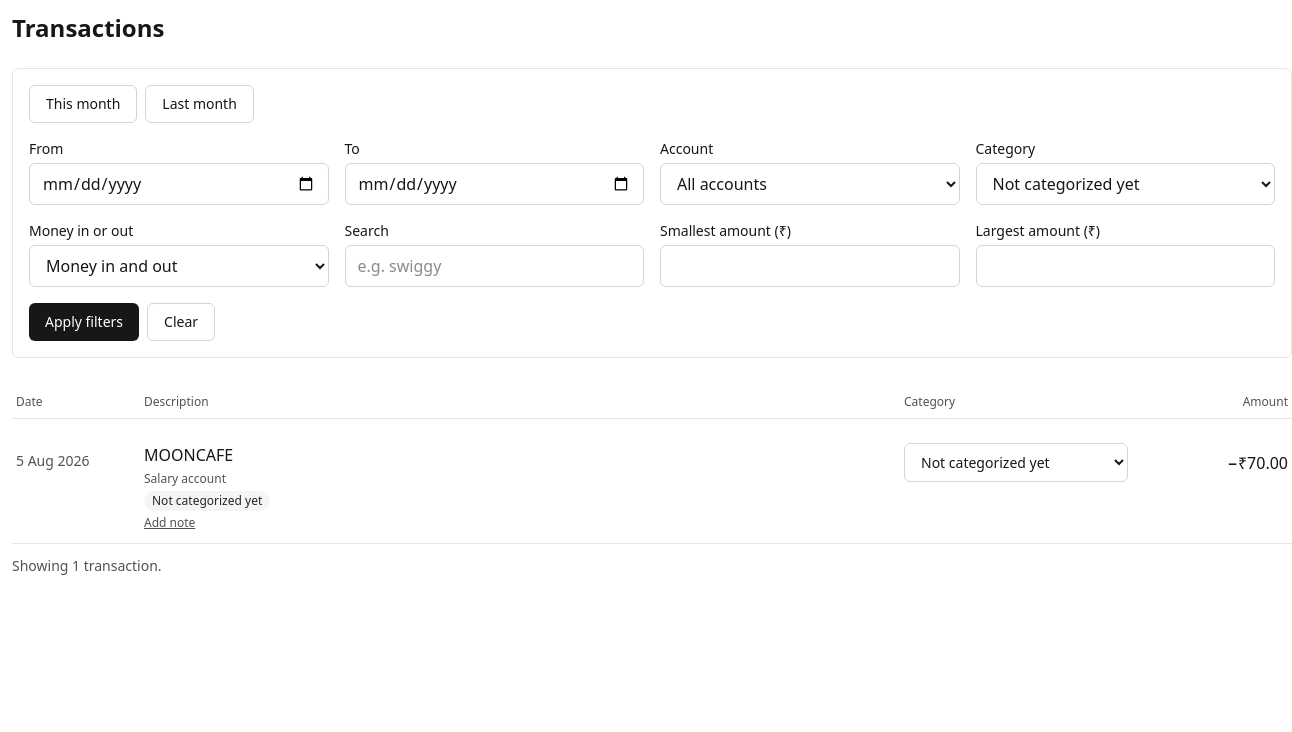
Test: TransactionsView: review fixes (PR 37) › keeps saying what was saved after the row has left a filtered list
Select "Salary" in the dropdown named "Category for" at point(1016, 462), box [904,443,1128,482]
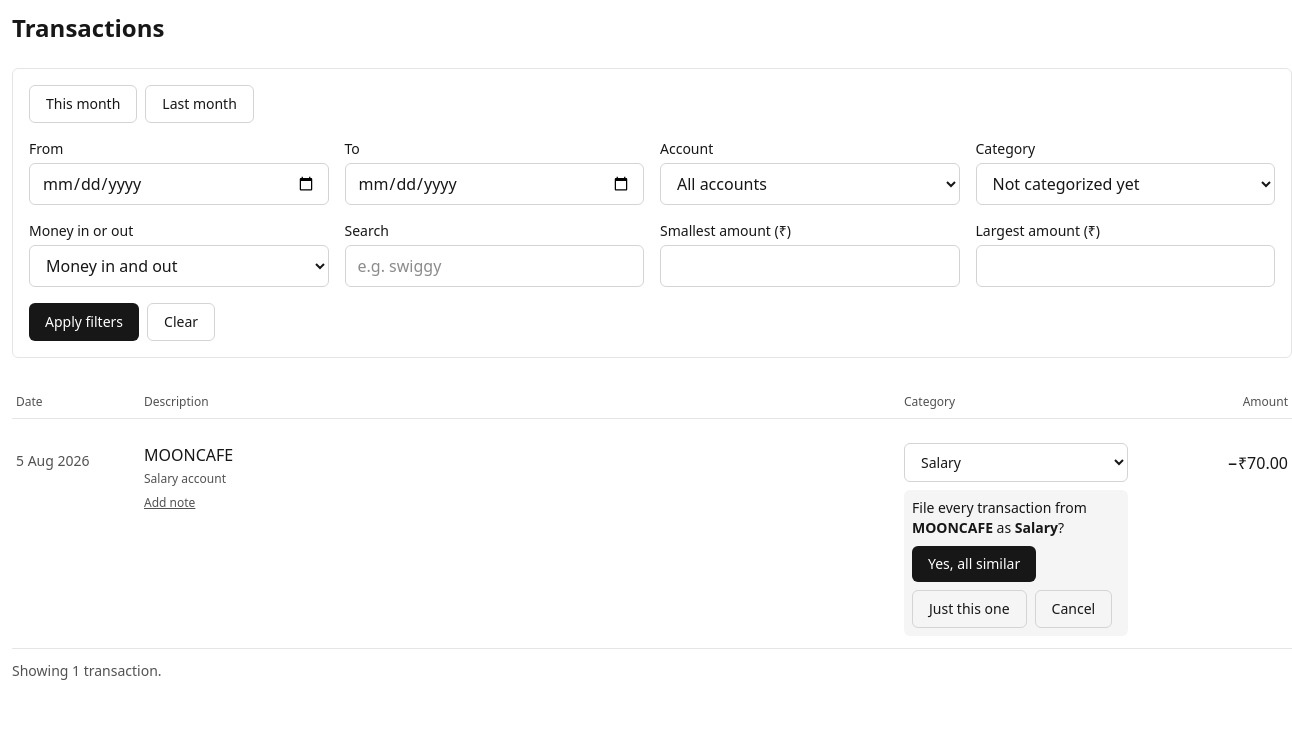
Click the button "Just this one" at point(969, 609), box [912,590,1027,628]
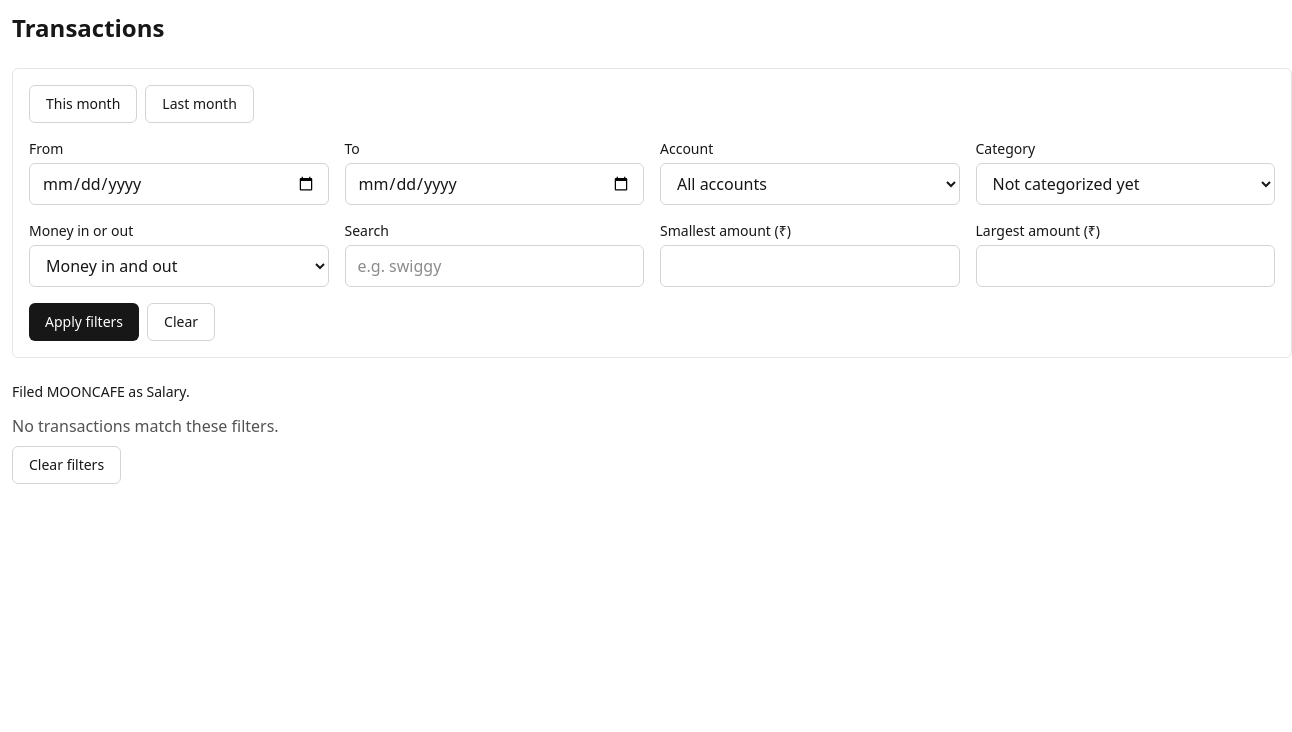
Expected: the message reads "Filed MOONCAFE as Salary.", [12,382,190,401]
